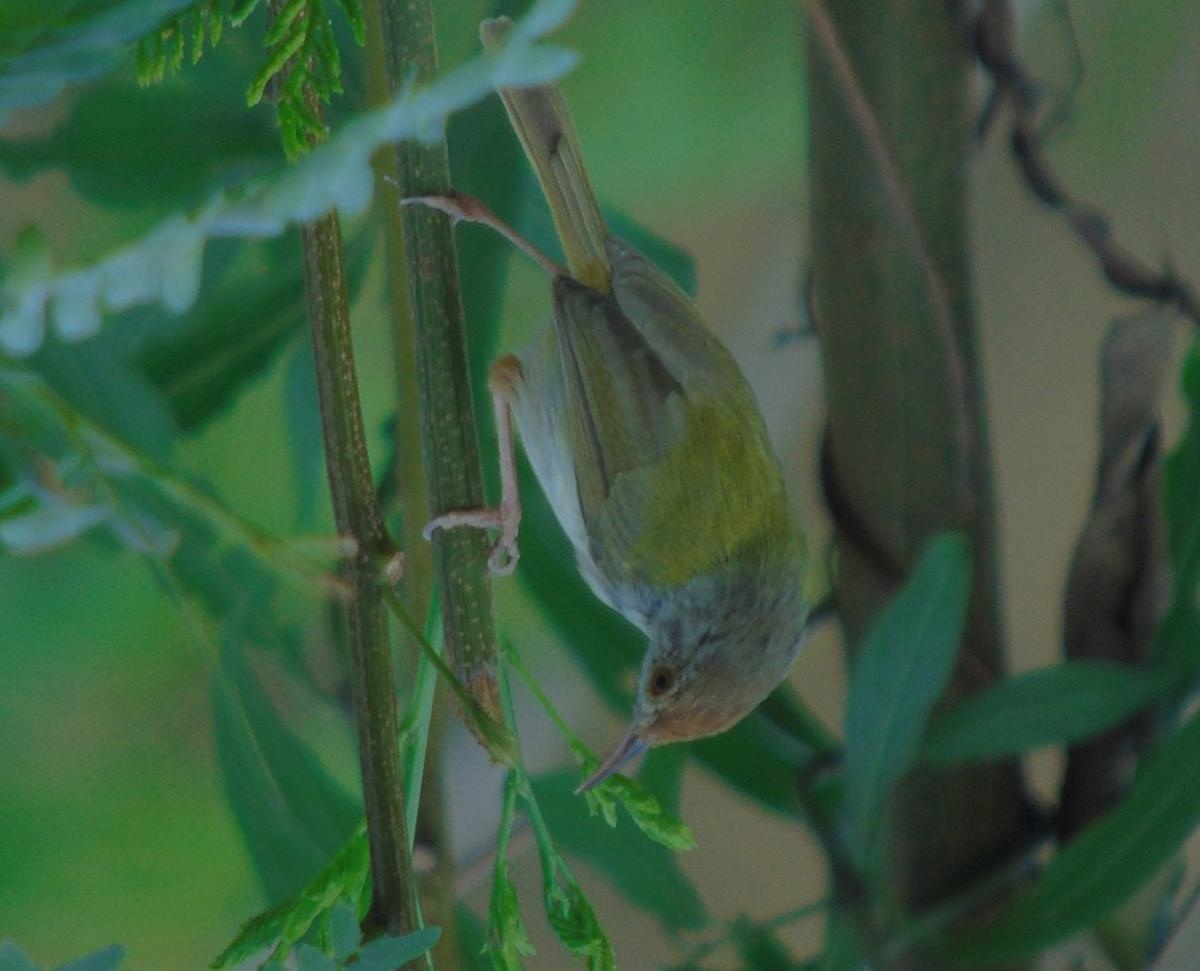tailorbird: (391, 160, 879, 796)
